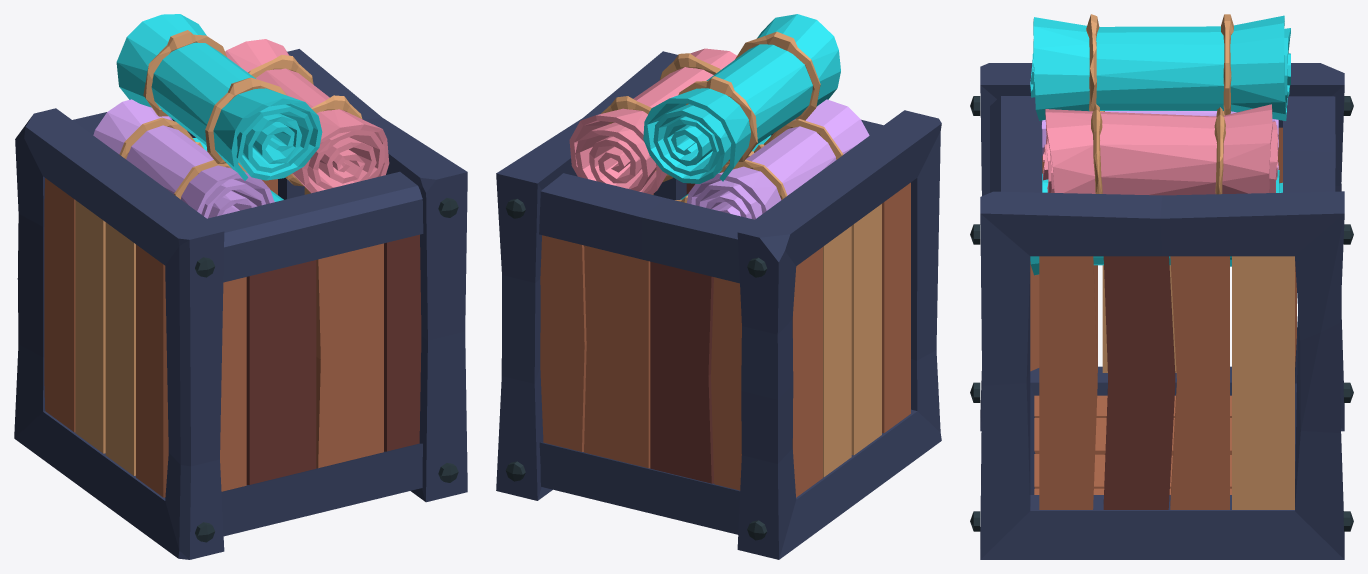
File: Cloth Box 01.fbx
3 renders of one model, left to right at view 1: azimuth 30°, elevation 25°; view 2: azimuth 150°, elevation 25°; view 3: azimuth 270°, elevation 25°, orthographic. The views are drawn at different scales.
Visible parts, largest first — view 1: Box Cloth 01; view 2: Box Cloth 01; view 3: Box Cloth 01.
Part boxes in pixels (x1,y1,x2,y2): Box Cloth 01: (14, 14, 467, 559); Box Cloth 01: (496, 14, 941, 559); Box Cloth 01: (970, 14, 1353, 559).
Size of the model in its own units: 86.88 by 122 by 93.55.
